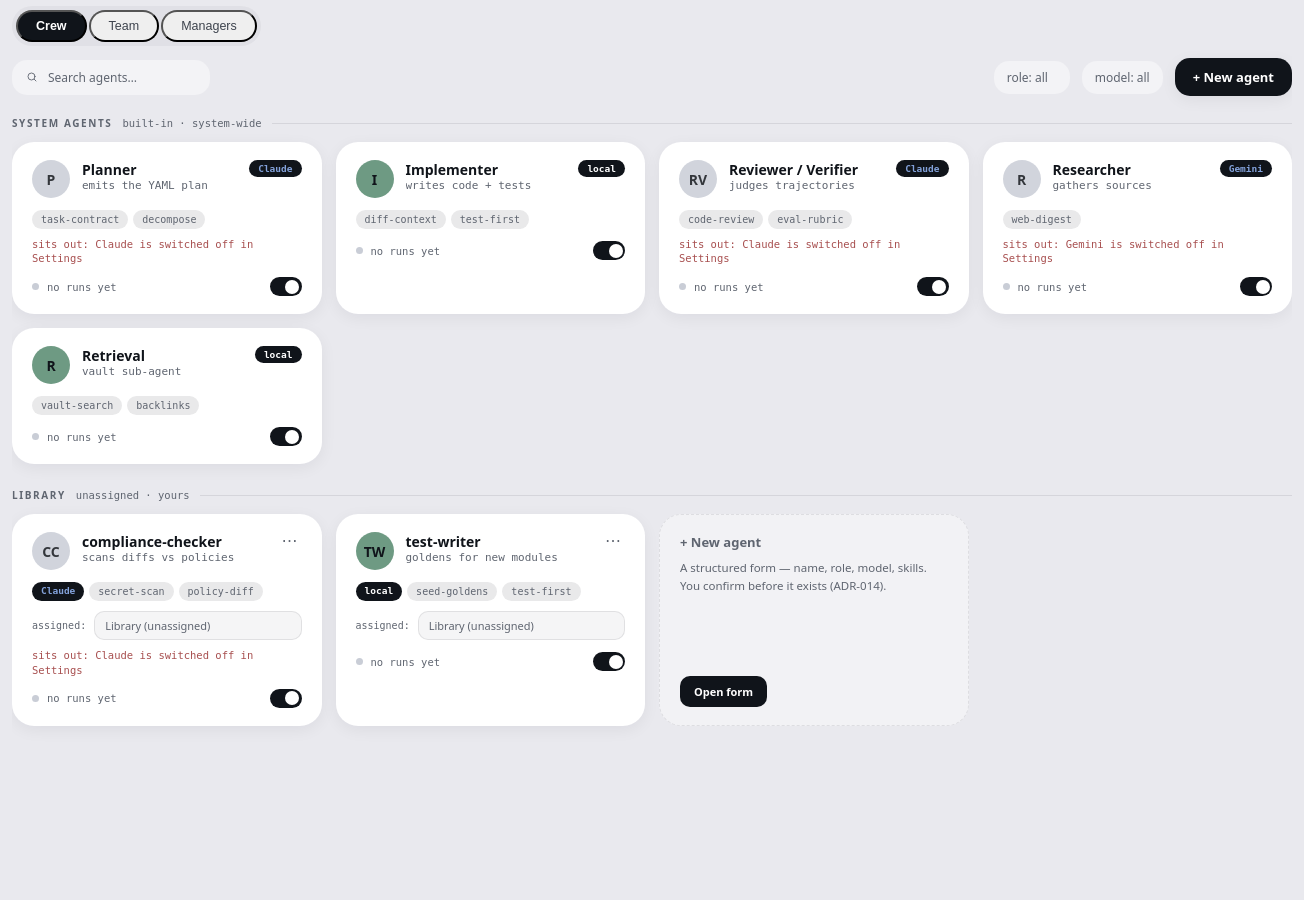
Test: Agents companion card — on and resting, not a toggle to keep flipping › the quiet off switch really turns it off — always-on is a default, not a lock-in
The width and height of the screenshot is (1304, 900).
Click the tab "Managers". click: coordinates (209, 26)
box: x1=161 y1=10 x2=257 y2=42
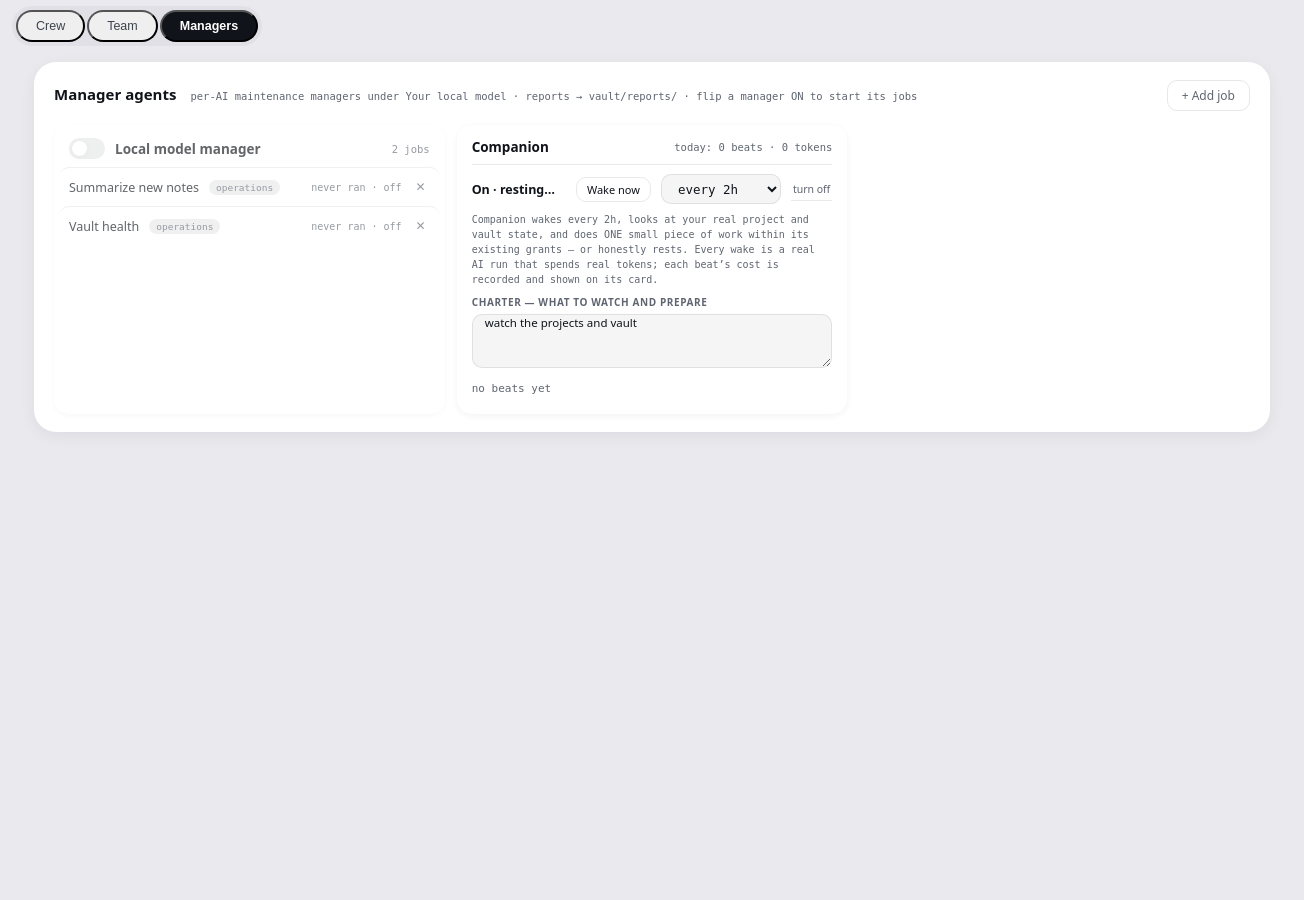
Click the button with aria-label "Turn off the heartbeat". click: coordinates (812, 189)
box: x1=791 y1=178 x2=832 y2=200
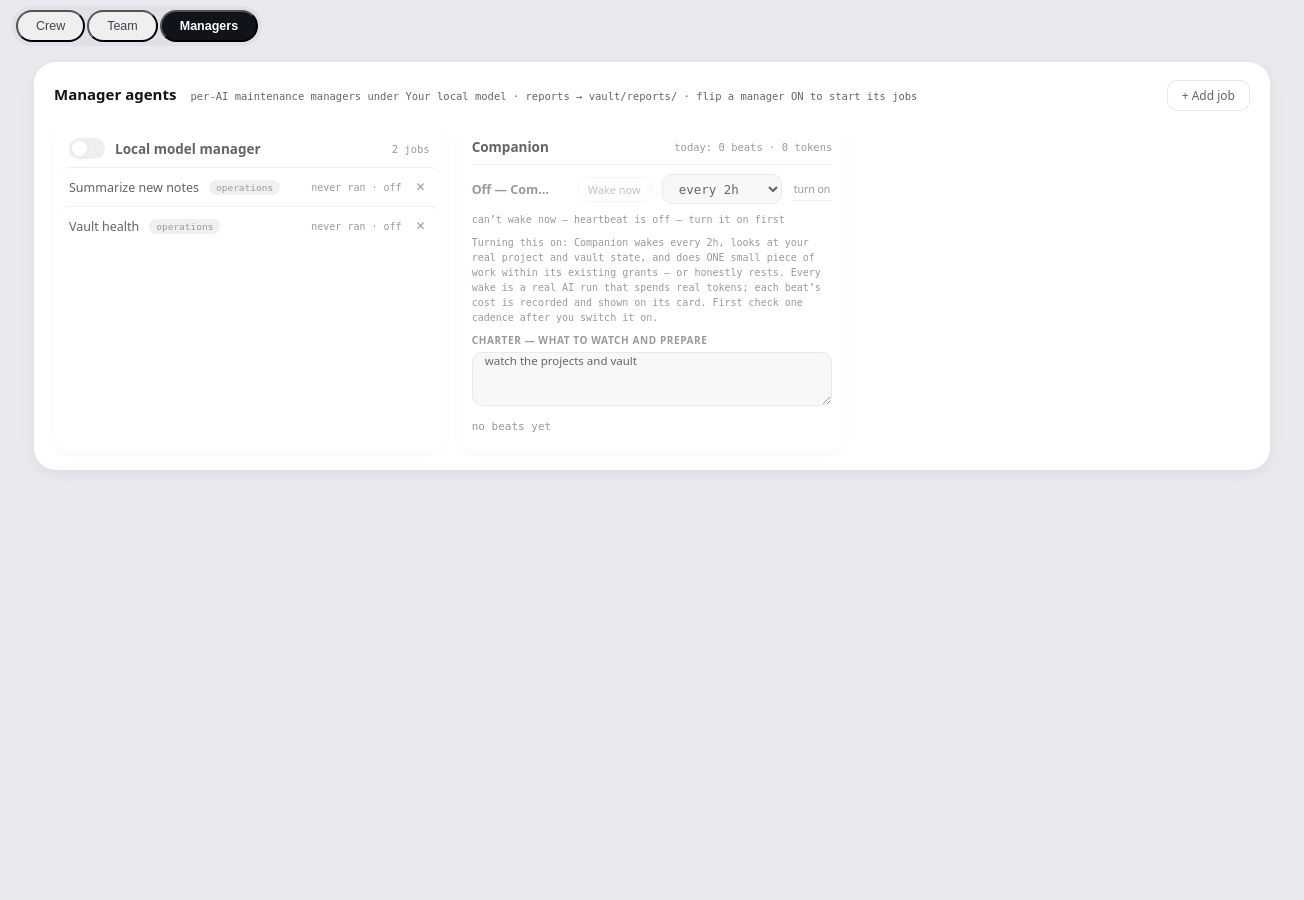
expect the text "Off — Companion will not wake on its own" is shown: met, box x1=472 y1=180 x2=557 y2=198
